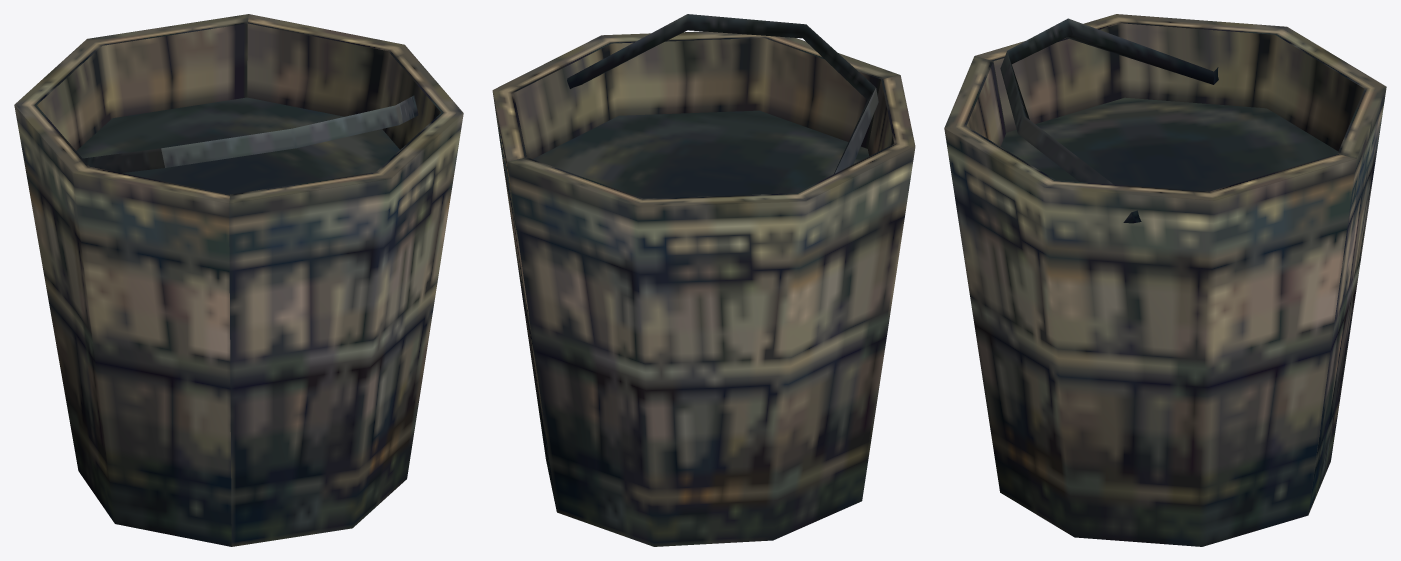
The model's file is OZ_20_wv_bukt02A.glb.
The picture shows the model from 3 angles, left to right: view 1: azimuth 30°, elevation 25°; view 2: azimuth 150°, elevation 25°; view 3: azimuth 270°, elevation 25°; orthographic projection. The views are drawn at different scales.
Visible parts, largest first — view 1: OM_20_wv_bukt02A; view 2: OM_20_wv_bukt02A; view 3: OM_20_wv_bukt02A.
Part boxes in pixels (<box>): OM_20_wv_bukt02A: <box>14,14,463,546</box>; OM_20_wv_bukt02A: <box>492,14,915,546</box>; OM_20_wv_bukt02A: <box>944,14,1386,546</box>.
Bounding box in the file's own units: 0.4881 × 0.504 × 0.4881.
Materials: 1 (1 with a texture image).
